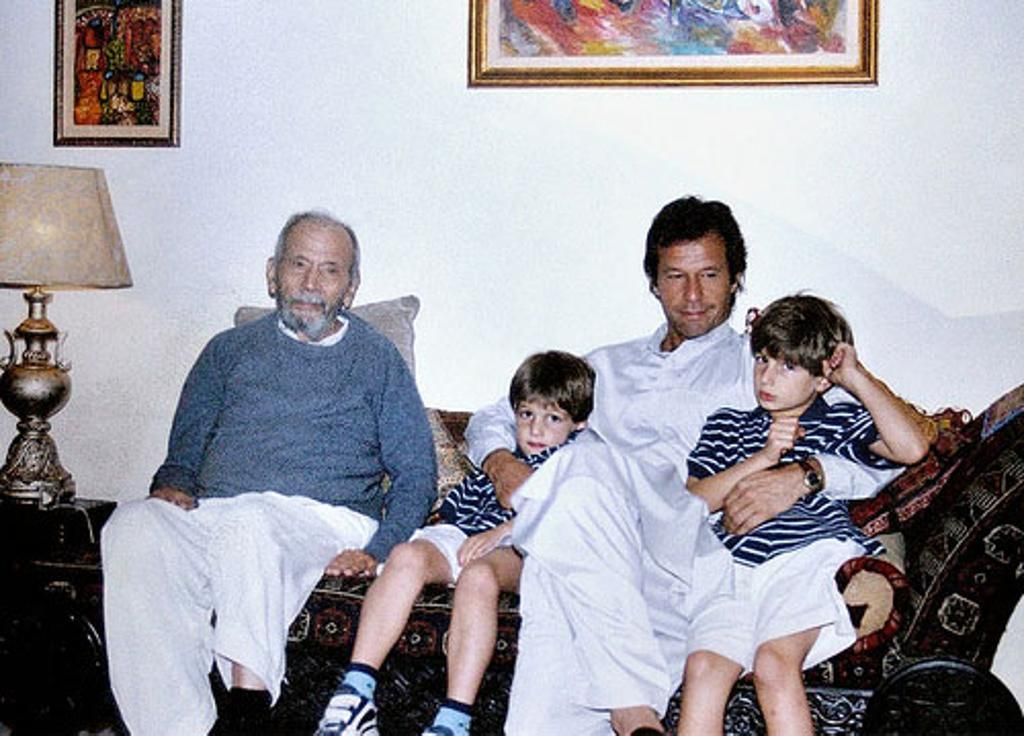face: (275, 239, 350, 324), (658, 248, 730, 335), (754, 344, 814, 408), (518, 399, 572, 456)
